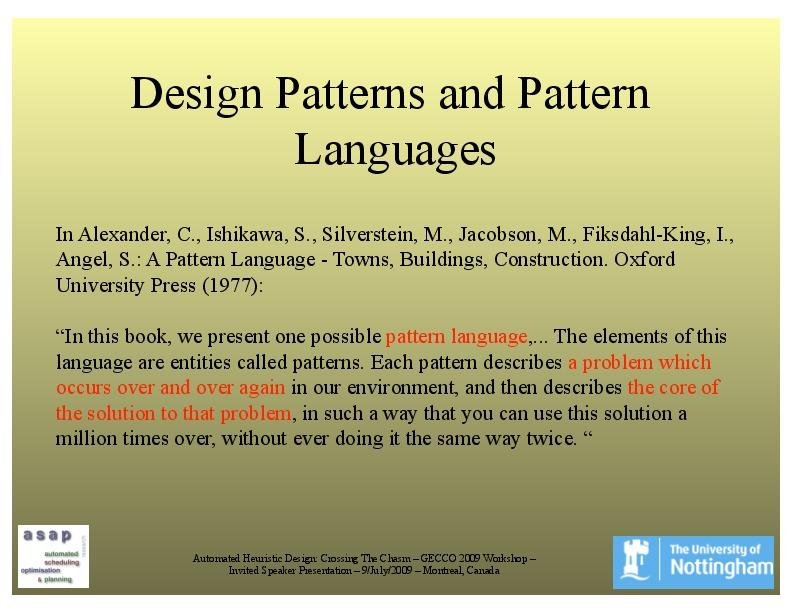paragraph: (43, 210, 753, 476)
title: (114, 61, 696, 194)
